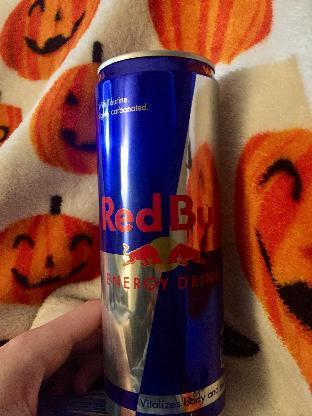Can: (95, 49, 225, 416)
